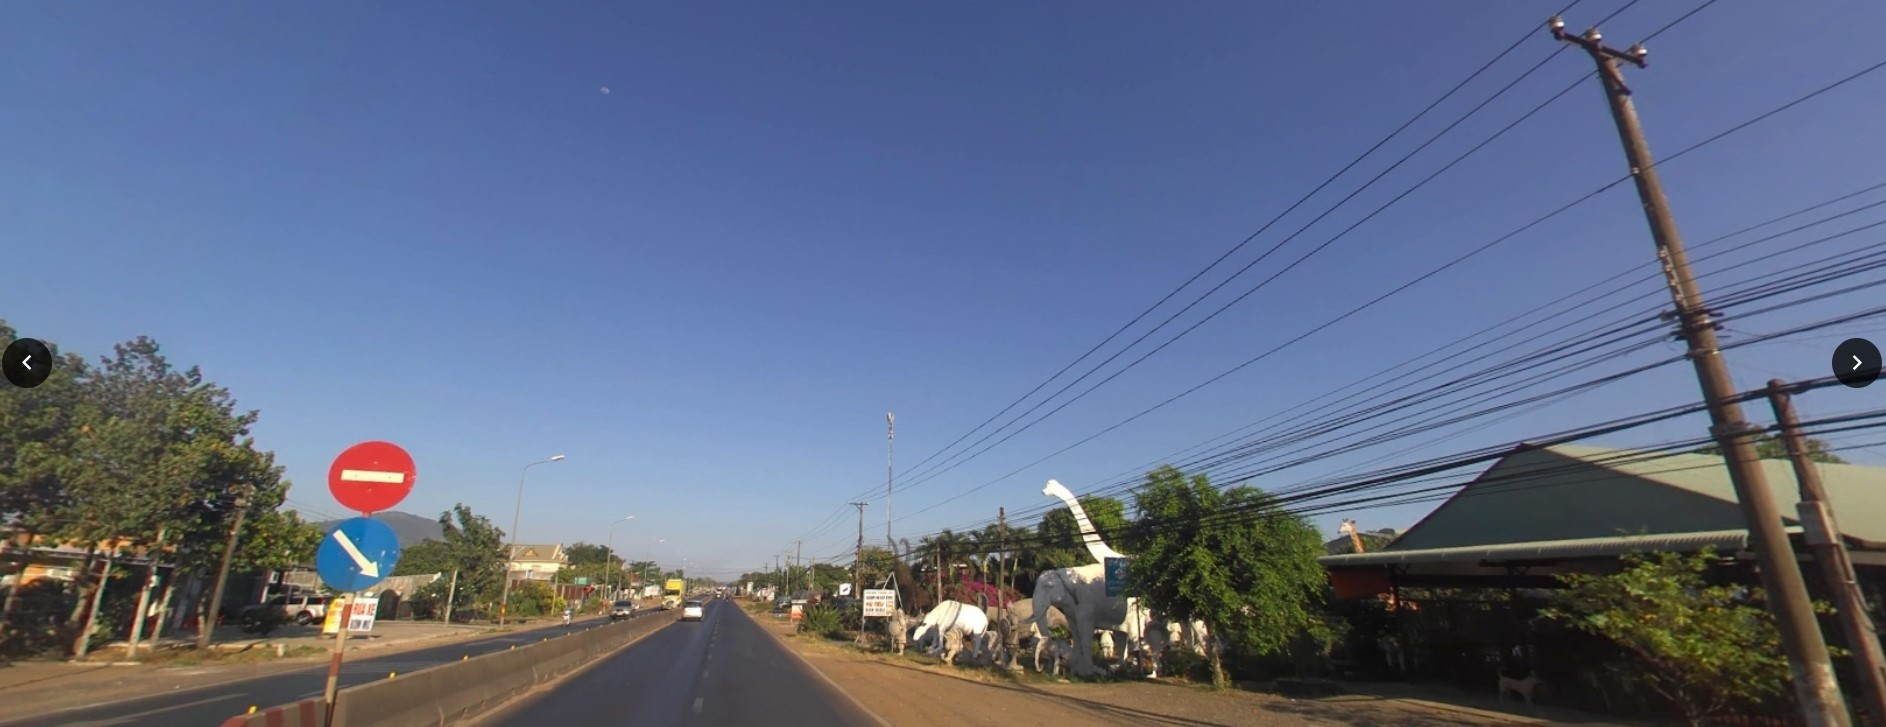Cam di nguoc chieu: (330, 438, 417, 513)
Huong di phai re phai: (316, 516, 402, 592)
